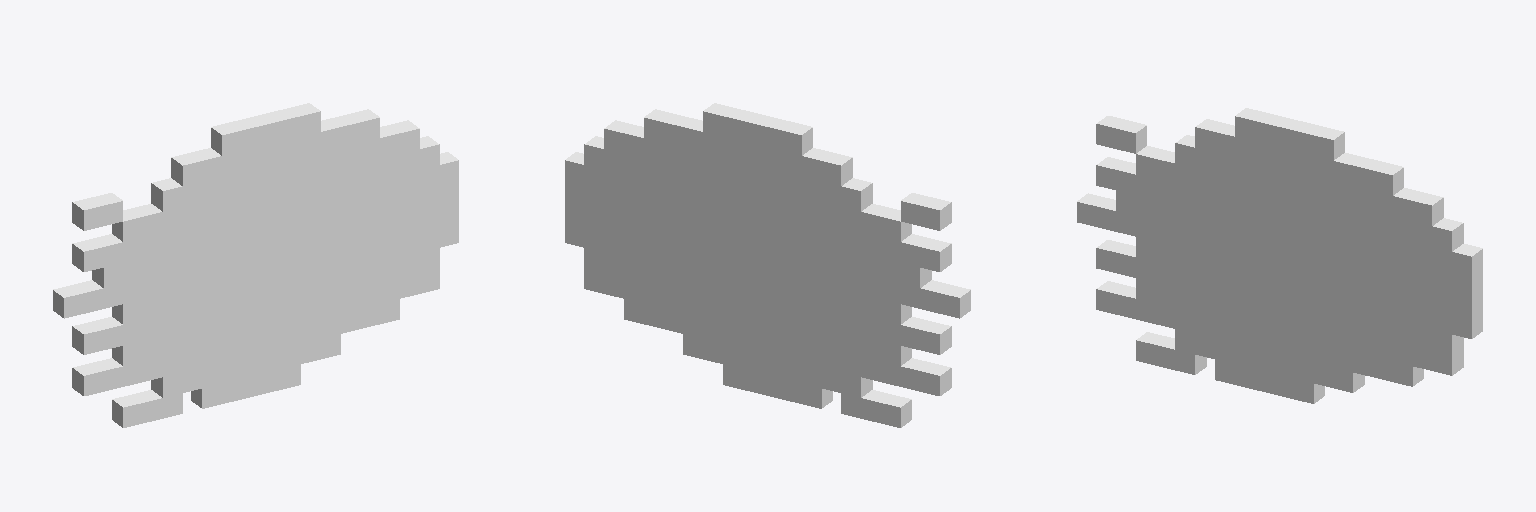
Rendered from ExplosiveBullet.obj.
3 views of the same model, side by side, from view 1: azimuth 30°, elevation 25°; view 2: azimuth 150°, elevation 25°; view 3: azimuth 330°, elevation 25° (orthographic).
Parts seen in each view (by area): view 1: object 1; view 2: object 1; view 3: object 1.
Part boxes in pixels (x1,y1,x2,y2): object 1: (53,103,458,427); object 1: (565,103,970,427); object 1: (1077,108,1482,403).
Size of the model in its own units: 2 by 1.3 by 0.1.